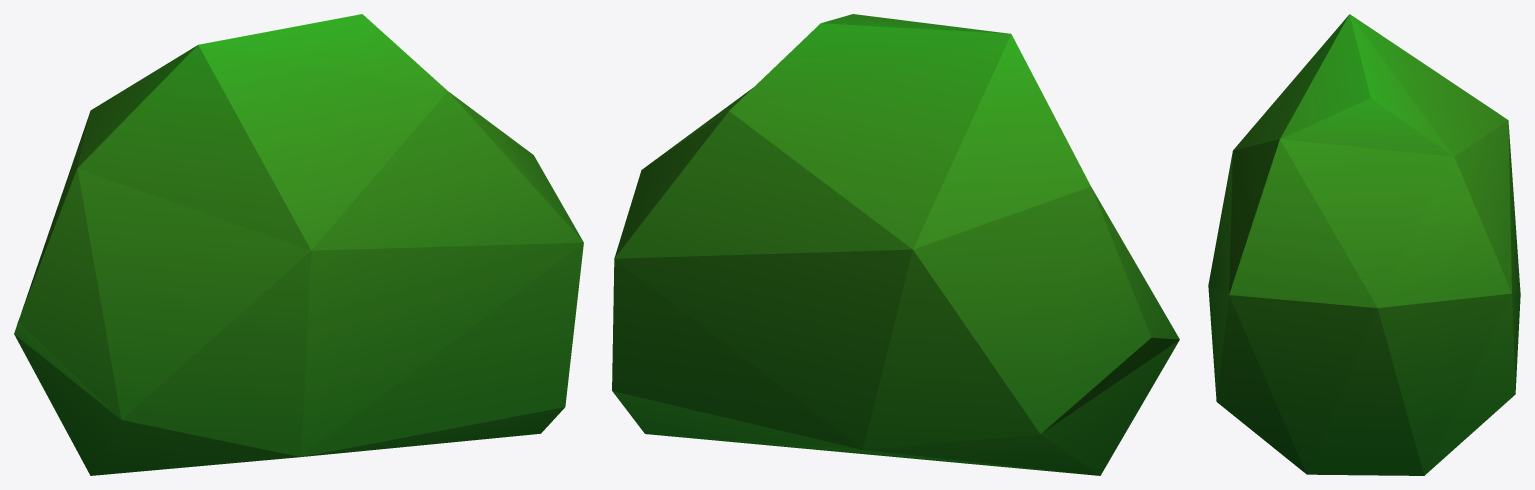
File: OneBush.FBX
3 views of the same model, side by side, from view 1: azimuth 30°, elevation 25°; view 2: azimuth 150°, elevation 25°; view 3: azimuth 270°, elevation 25° (orthographic). The views are drawn at different scales.
Parts seen in each view (by area): view 1: GeoSphere012; view 2: GeoSphere012; view 3: GeoSphere012.
Boxes of the visible parts, left/top/right/bottom form: GeoSphere012: left=14, top=14, right=583, bottom=475; GeoSphere012: left=612, top=14, right=1179, bottom=475; GeoSphere012: left=1208, top=14, right=1520, bottom=475.
Size of the model in its own units: 114 by 94.42 by 78.02.
